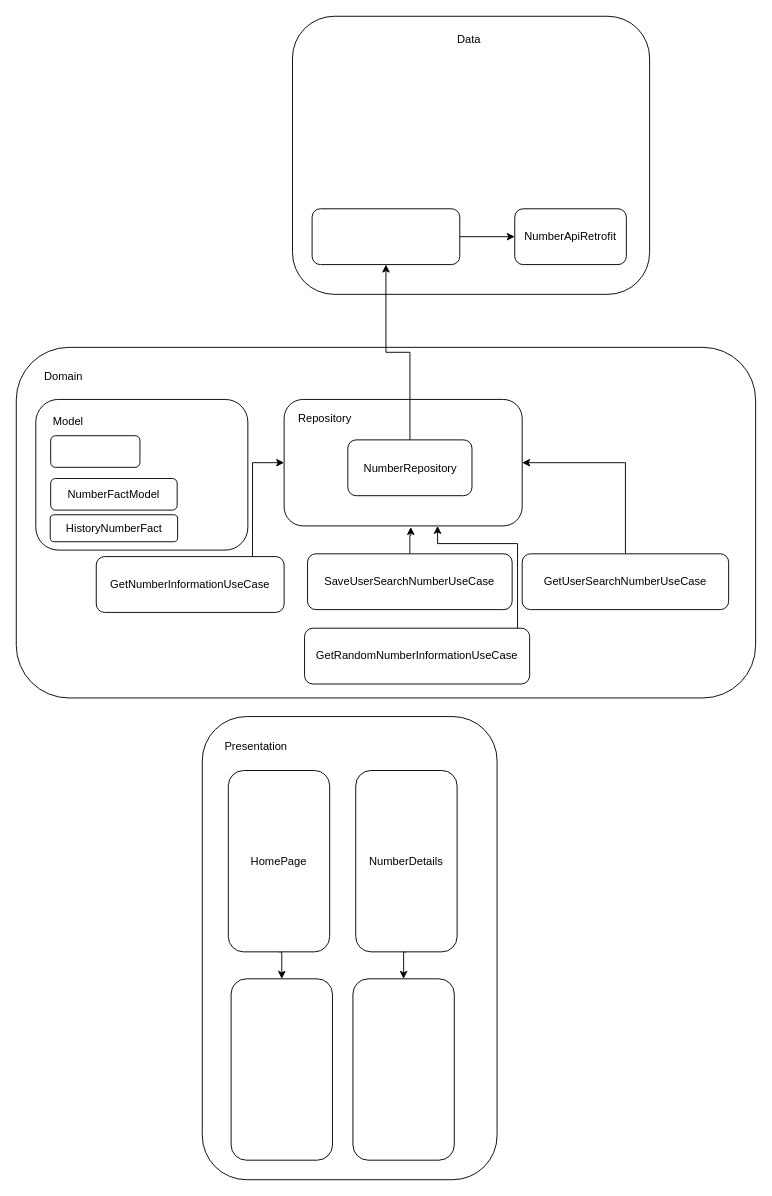
Image size: 772x1196. Some labels were removed from this diagram. The box of each missing label's shape, as (x1, y1, x2, y2) in pixels:
HomePageVM: (230, 978, 332, 1160)
NumberDetailsVM: (352, 978, 454, 1160)
NumberModel: (50, 435, 140, 467)
NumberRepositoryImpl: (311, 208, 460, 265)
